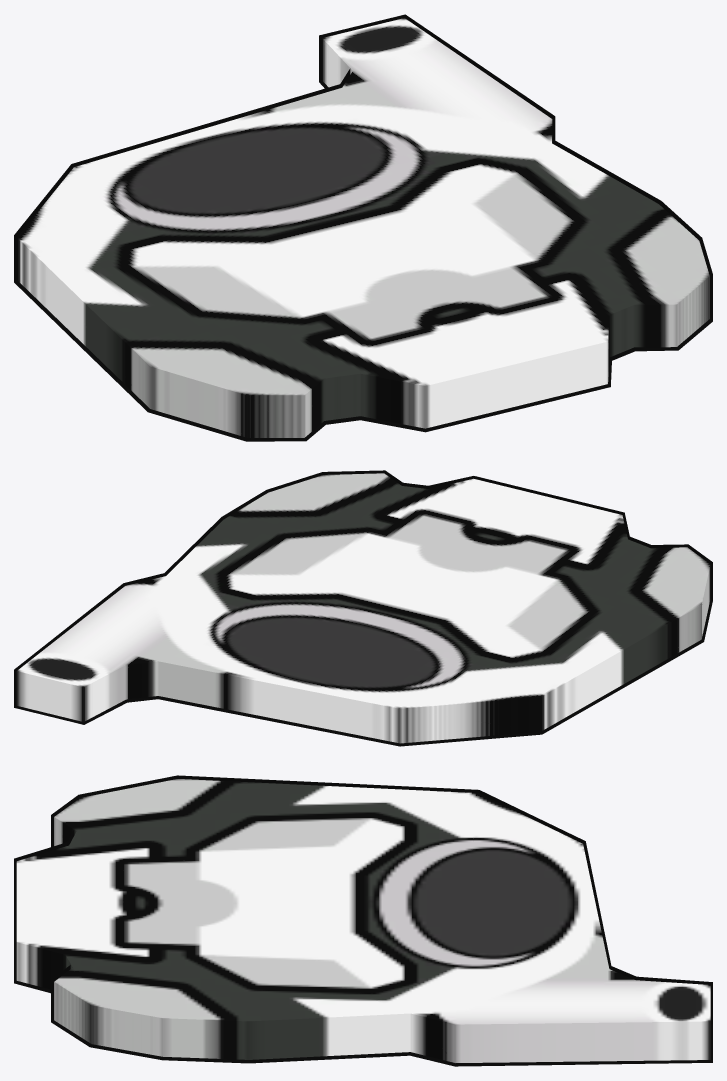
File: Item_Apparel_ArmorMarineGrenadier_Things_Pawn_Humanlike_Apparel_GrenadierArmor_GrenadierArmor_Fat.glb
The picture shows the model from 3 angles, top to bottom: view 1: azimuth 30°, elevation 25°; view 2: azimuth 150°, elevation 25°; view 3: azimuth 270°, elevation 25°; orthographic projection. The views are drawn at different scales.
Visible parts, largest first — view 1: Body, Outline; view 2: Body, Outline; view 3: Body, Outline.
Boxes of the visible parts, box(x1,y1,x2,y2) form: Body: box(17, 18, 709, 437); Outline: box(14, 14, 712, 441); Body: box(16, 473, 710, 743); Outline: box(14, 470, 712, 746); Body: box(16, 779, 710, 1062); Outline: box(14, 775, 712, 1066).
Bounding box in the file's own units: 1.22 × 0.1012 × 1.46.
2 materials, 1 textured.
